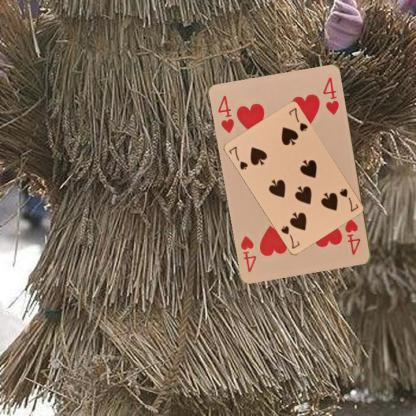4h: (216, 93, 236, 135), (343, 216, 362, 256)
7s: (337, 186, 360, 213), (226, 144, 249, 171)
